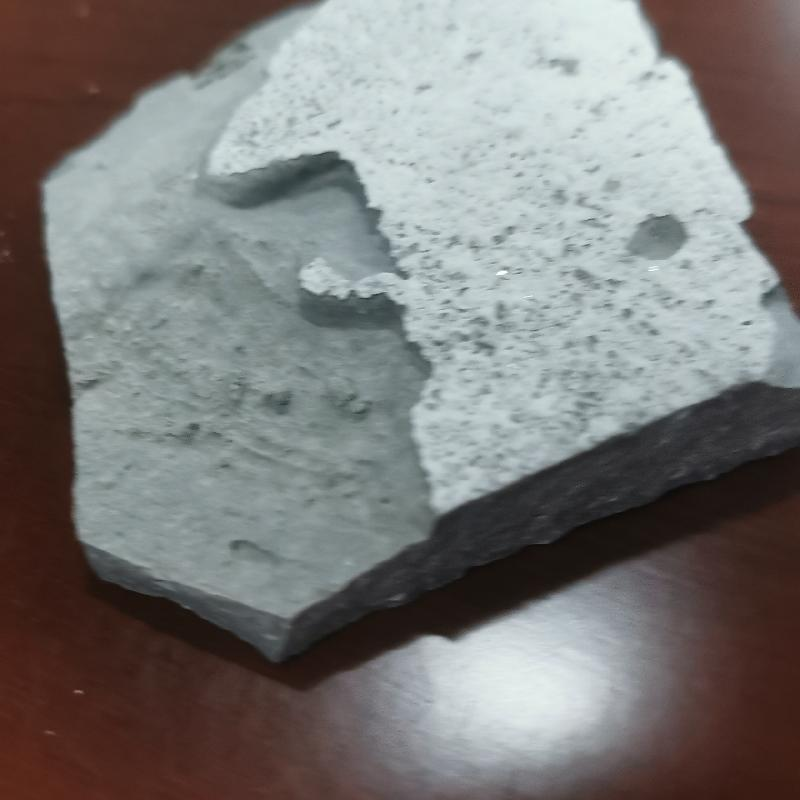tile: (36, 0, 794, 661)
